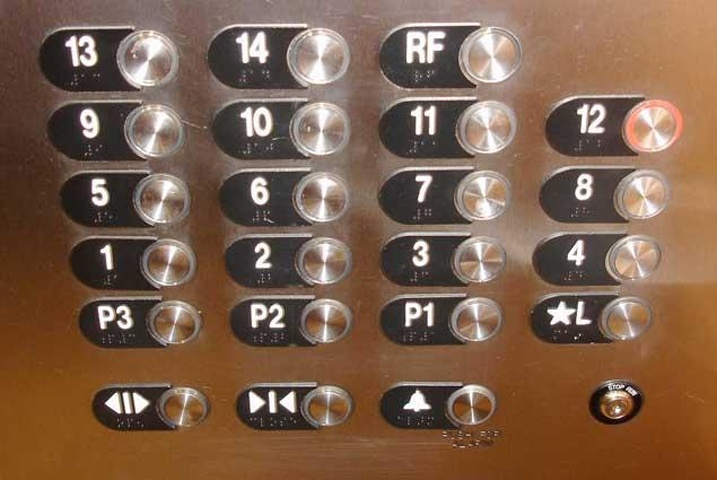1: (67, 232, 199, 290)
10: (211, 94, 354, 161)
11: (379, 93, 522, 160)
12: (545, 94, 688, 159)
13: (39, 23, 181, 91)
14: (208, 20, 353, 92)
2: (224, 233, 355, 288)
3: (380, 230, 510, 288)
4: (532, 229, 663, 289)
5: (58, 166, 196, 230)
6: (216, 161, 355, 230)
7: (377, 164, 515, 227)
8: (540, 165, 673, 226)
9: (44, 100, 190, 163)
P1: (380, 289, 504, 348)
P2: (230, 292, 353, 351)
P3: (79, 294, 206, 351)
RF: (378, 20, 527, 90)
alarm: (380, 379, 496, 430)
close: (234, 379, 356, 432)
keyhole: (584, 376, 647, 426)
open: (91, 379, 214, 433)
sL: (529, 291, 658, 346)
